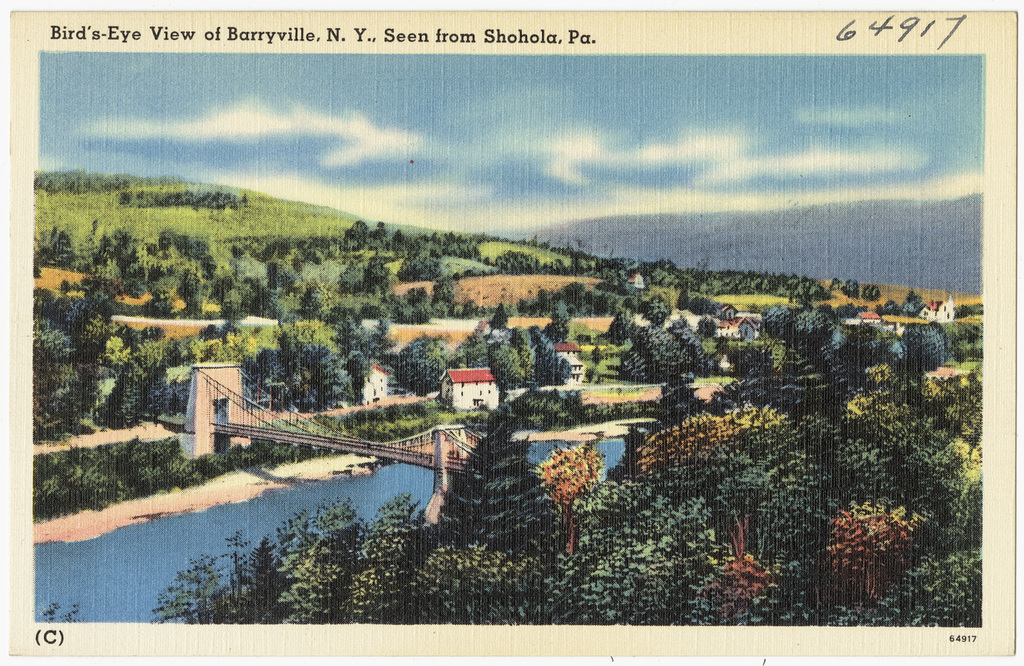Tree: (28, 211, 667, 346), (425, 397, 572, 579), (413, 538, 574, 640), (153, 521, 307, 626), (707, 428, 813, 573), (822, 489, 940, 593), (558, 525, 675, 629), (843, 551, 993, 629), (804, 418, 916, 521), (352, 492, 430, 633), (19, 293, 90, 444), (639, 405, 754, 495), (559, 459, 672, 531), (690, 551, 783, 636), (262, 326, 350, 413), (96, 344, 178, 431), (879, 398, 950, 498), (287, 487, 344, 610), (337, 301, 403, 387), (952, 439, 998, 540), (772, 343, 826, 425), (930, 370, 978, 458), (389, 326, 443, 397), (621, 326, 694, 377), (520, 333, 575, 398), (903, 321, 956, 385), (869, 333, 912, 398), (673, 317, 714, 381), (757, 297, 806, 343), (488, 338, 524, 392), (827, 347, 852, 420), (841, 325, 882, 368), (496, 320, 525, 380), (457, 327, 490, 371), (600, 301, 634, 343), (795, 300, 827, 343), (546, 297, 571, 338), (643, 299, 677, 325)
